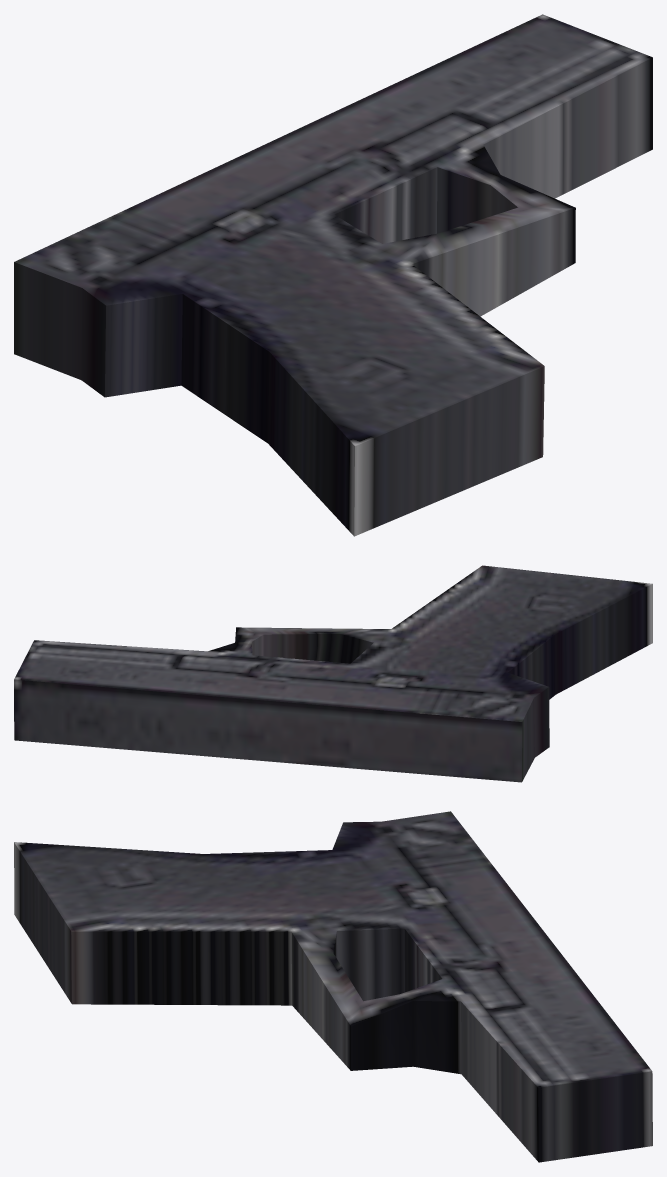
File: glock18-drop.glb
The picture shows the model from 3 angles, top to bottom: view 1: azimuth 30°, elevation 25°; view 2: azimuth 150°, elevation 25°; view 3: azimuth 270°, elevation 25°; orthographic projection. The views are drawn at different scales.
Visible parts, largest first — view 1: glock18 dropped.001; view 2: glock18 dropped.001; view 3: glock18 dropped.001.
Part boxes in pixels (x1,y1,x2,y2): glock18 dropped.001: [14, 14, 652, 536]; glock18 dropped.001: [14, 565, 652, 782]; glock18 dropped.001: [14, 811, 652, 1162].
Bounding box in the file's own units: 0.1758 × 0.0234 × 0.1737.
Materials: 1 (1 with a texture image).
